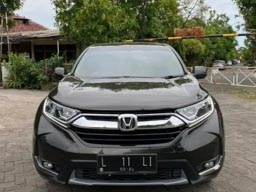plat: (95, 154, 157, 167)
